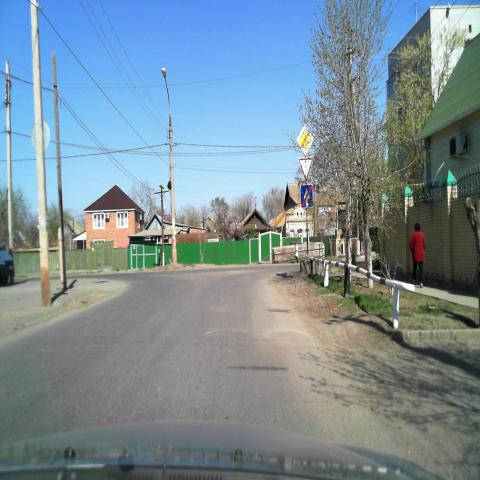5_6: (300, 184, 314, 210)
